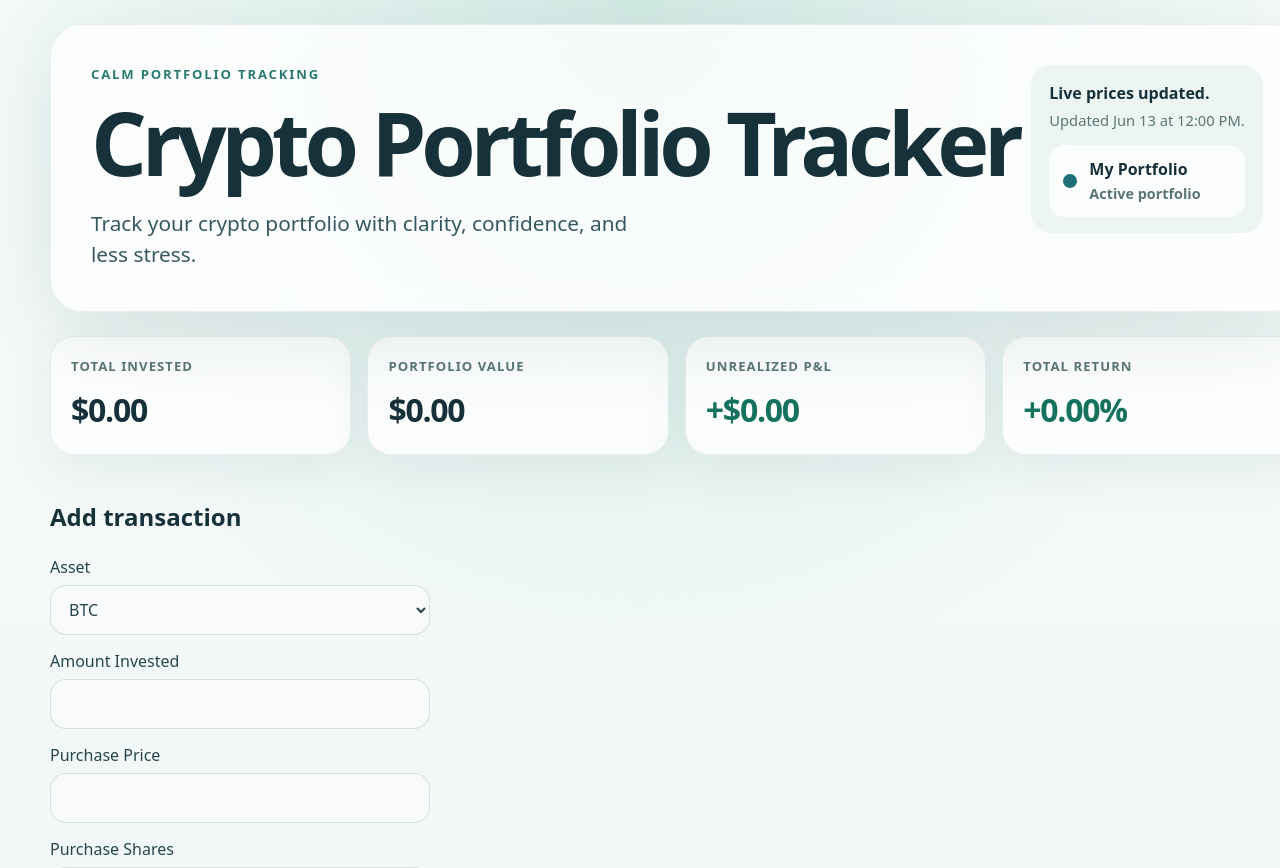
Test: rounds auto-calculated purchase price to the supported input precision
Select "ADA" in the dropdown labelled "Asset" at (240, 610), box [50, 585, 430, 635]
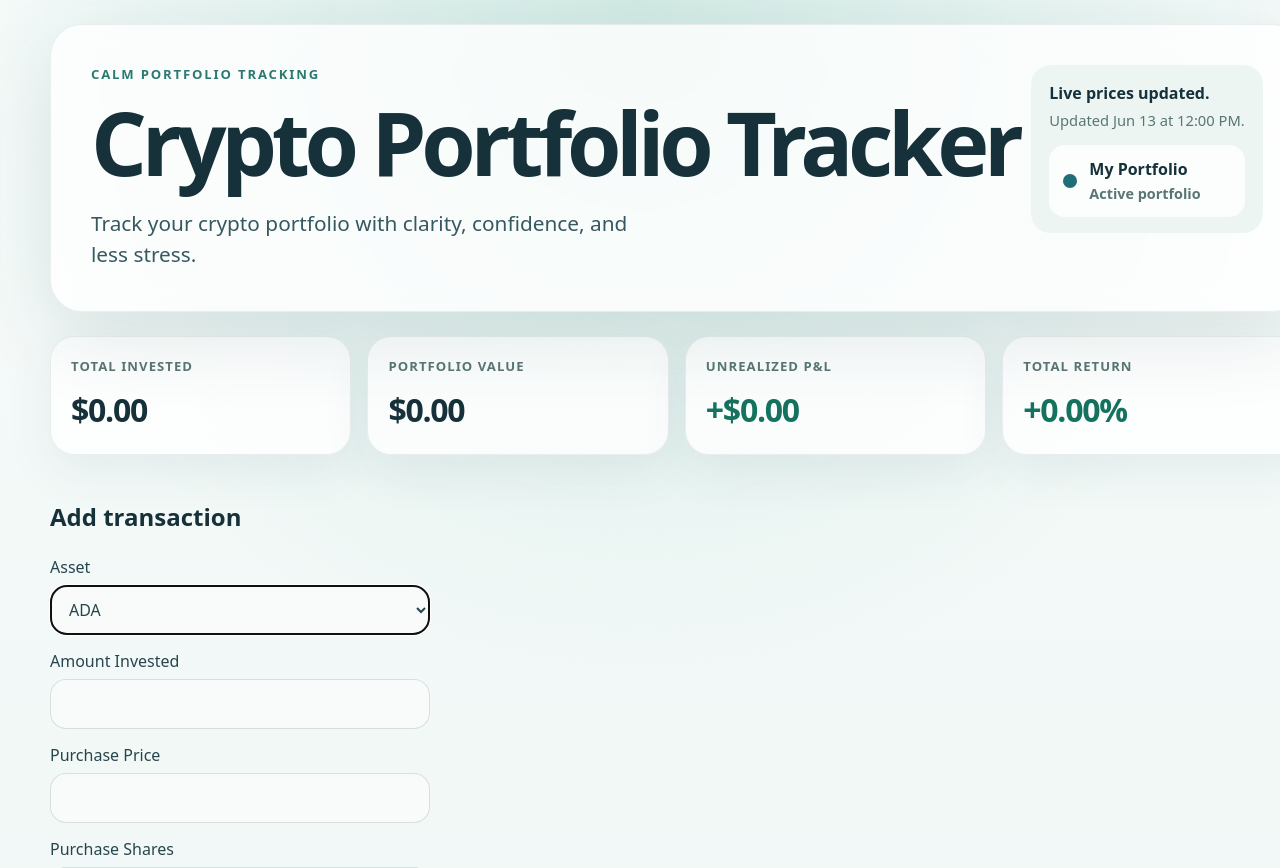
Type "5000" into the number field labelled "Amount Invested" at (240, 704), box [50, 679, 430, 729]
(page scrolled)
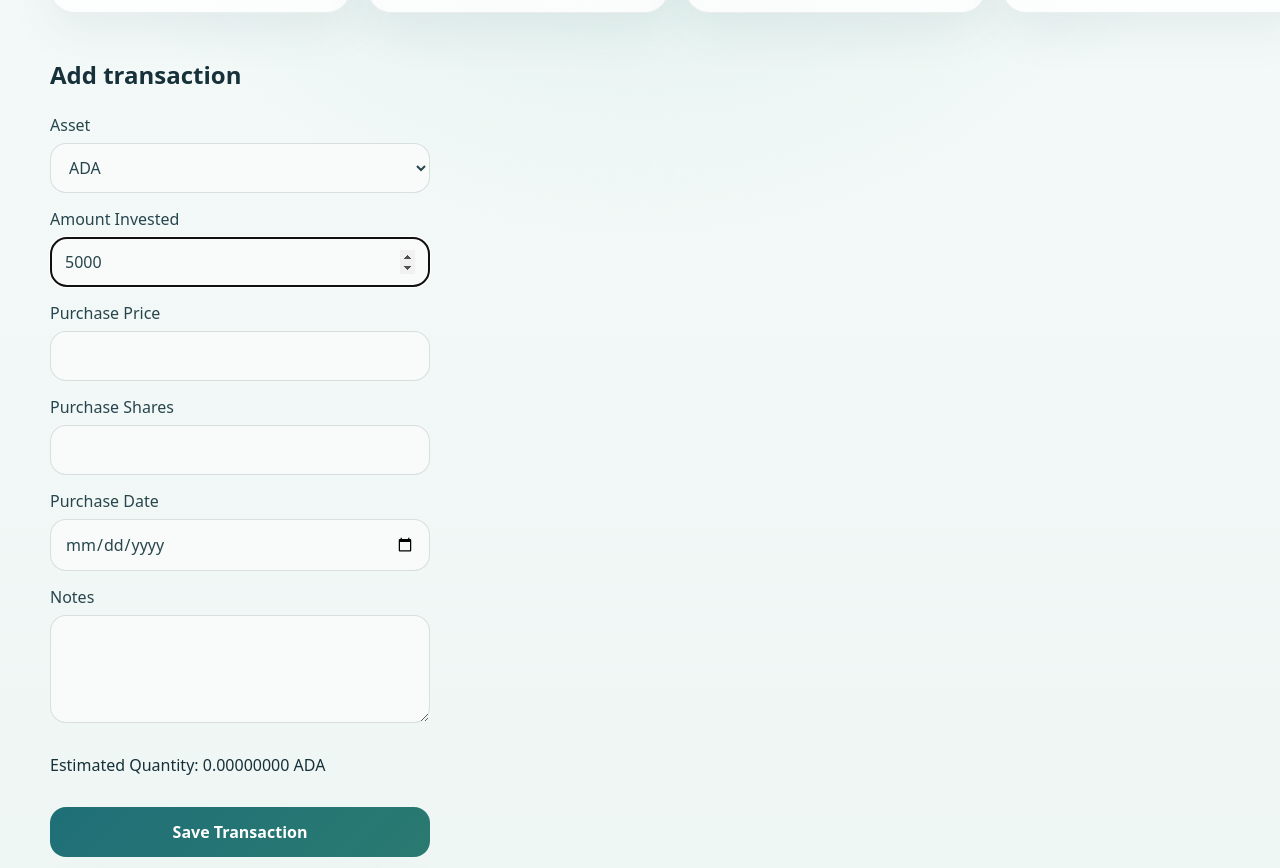
Type "30010.94" into the number field labelled "Purchase Shares" at (240, 450), box [50, 425, 430, 475]
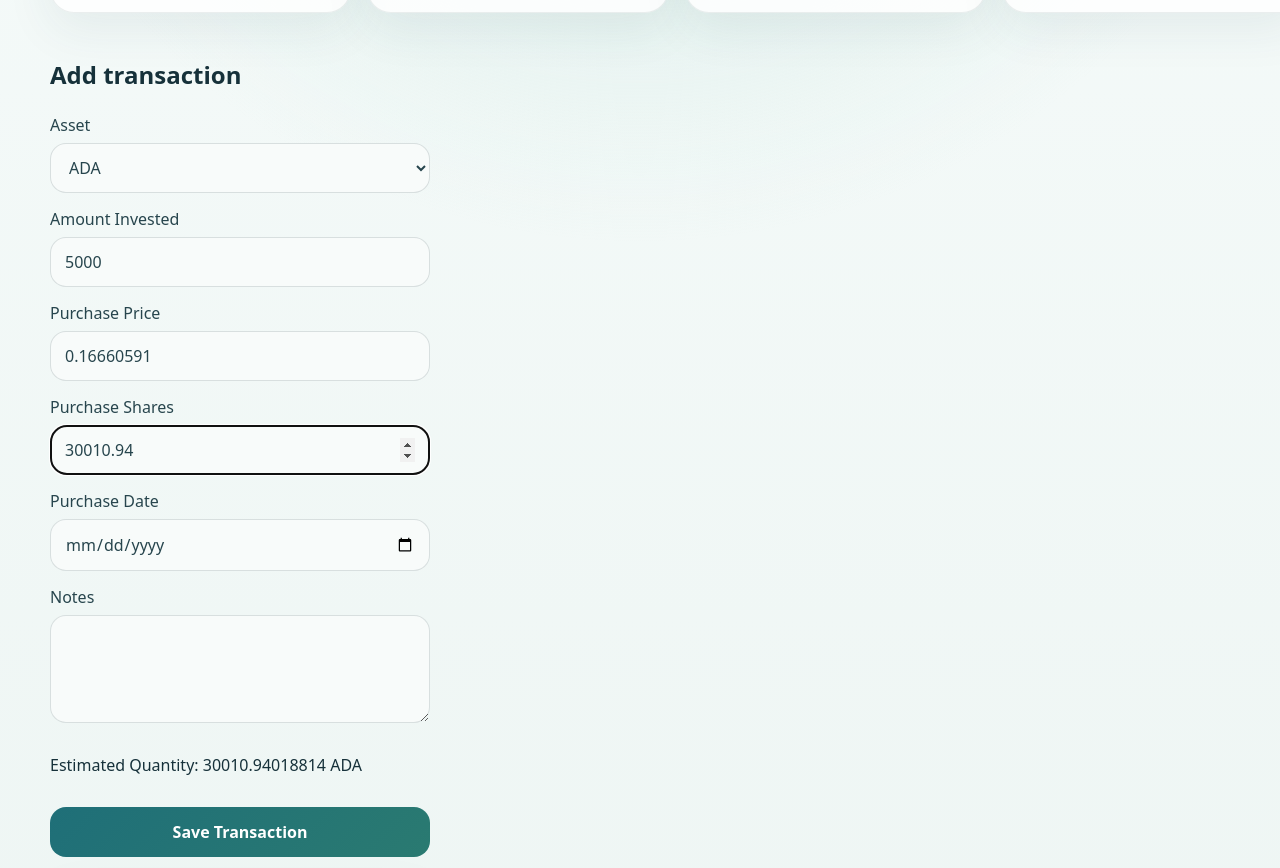
Expected: the number field labelled "Purchase Price" holds "0.16660591", [50, 331, 430, 381]
